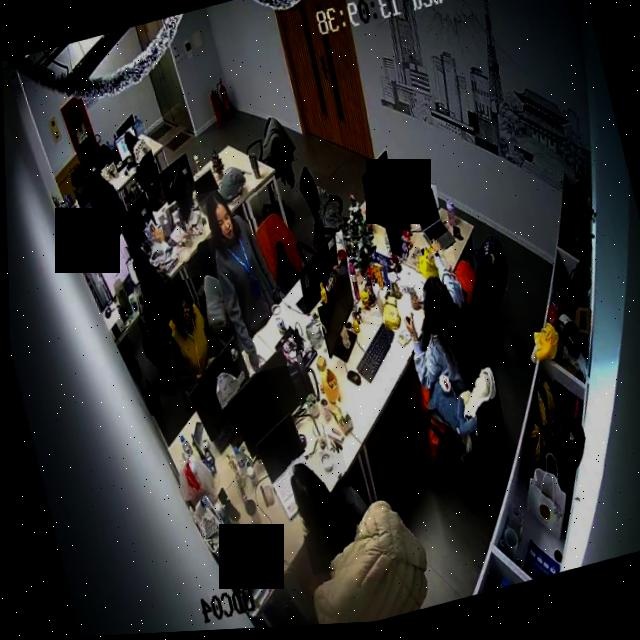person: (368, 250, 498, 473), (194, 181, 296, 381), (282, 449, 365, 580), (150, 276, 222, 391), (66, 155, 125, 232), (121, 239, 175, 318), (119, 123, 153, 170)
